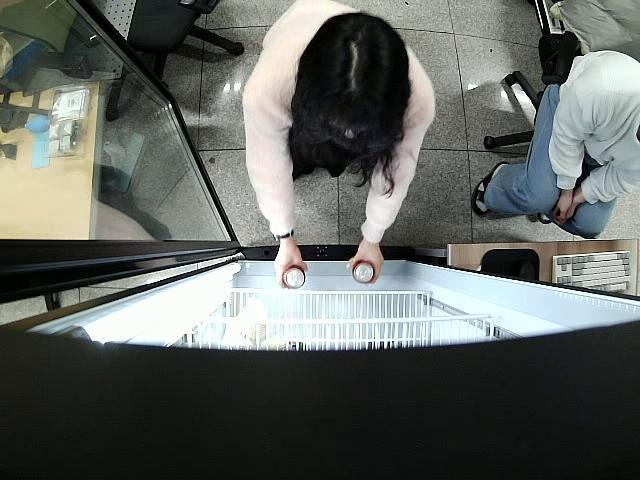11_cocaColaZero: (280, 264, 306, 289), (351, 260, 375, 284)
